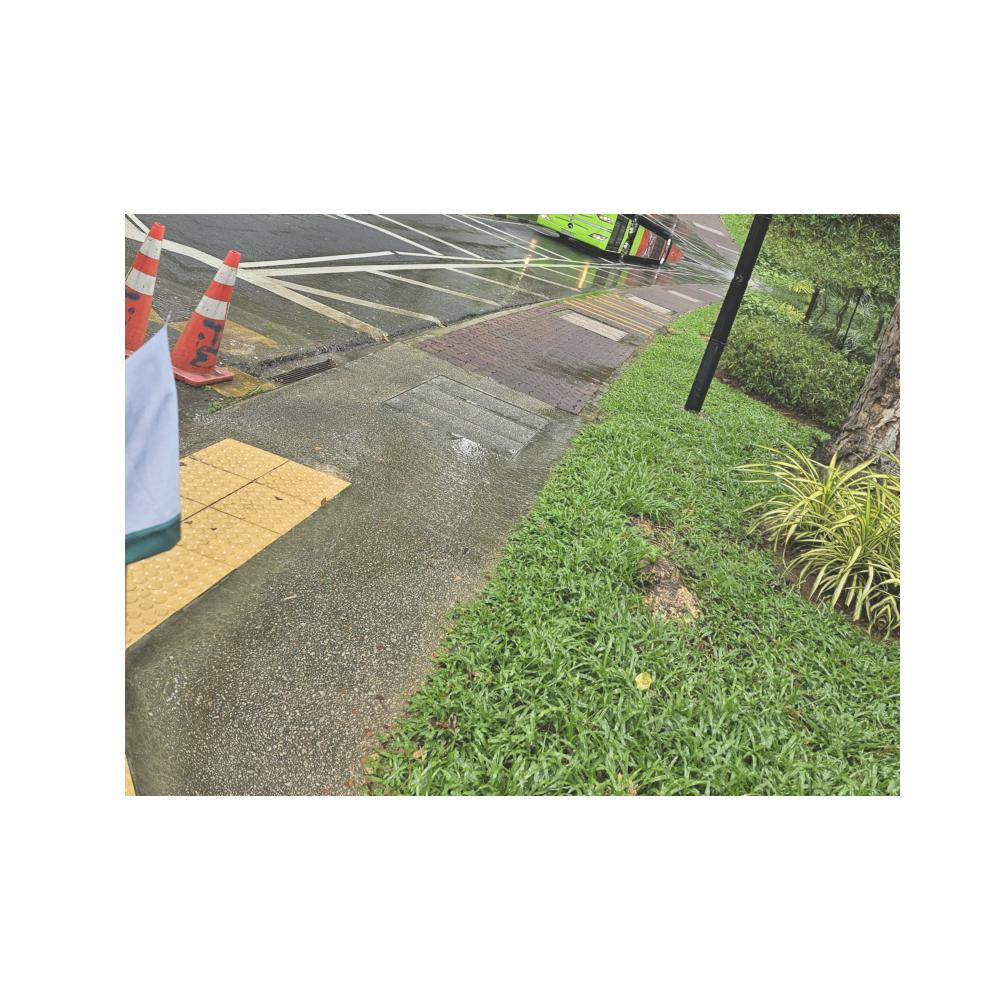bus: (541, 215, 674, 272)
